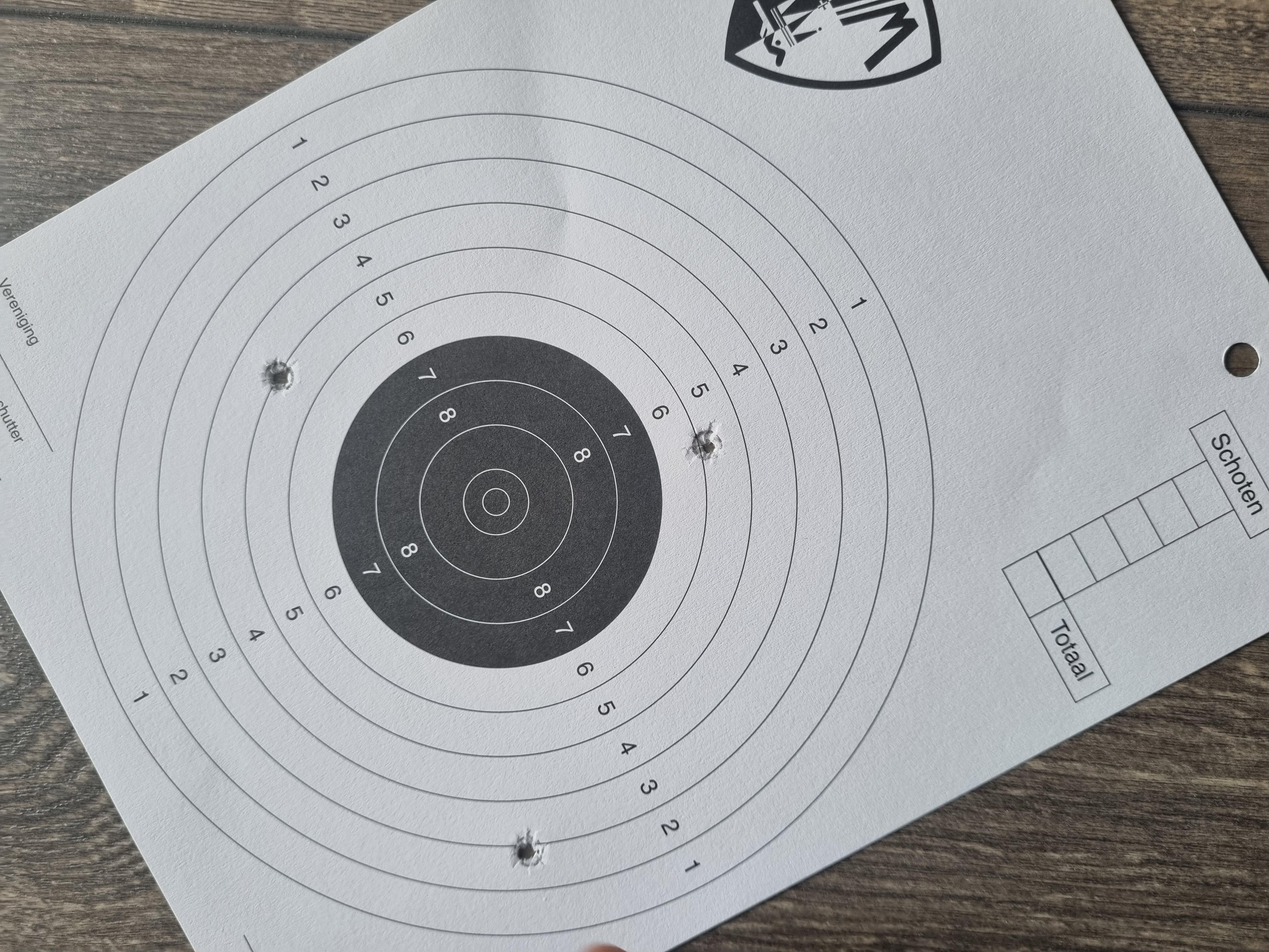hole: (105, 381, 165, 415), (736, 195, 795, 224), (652, 517, 702, 545)
